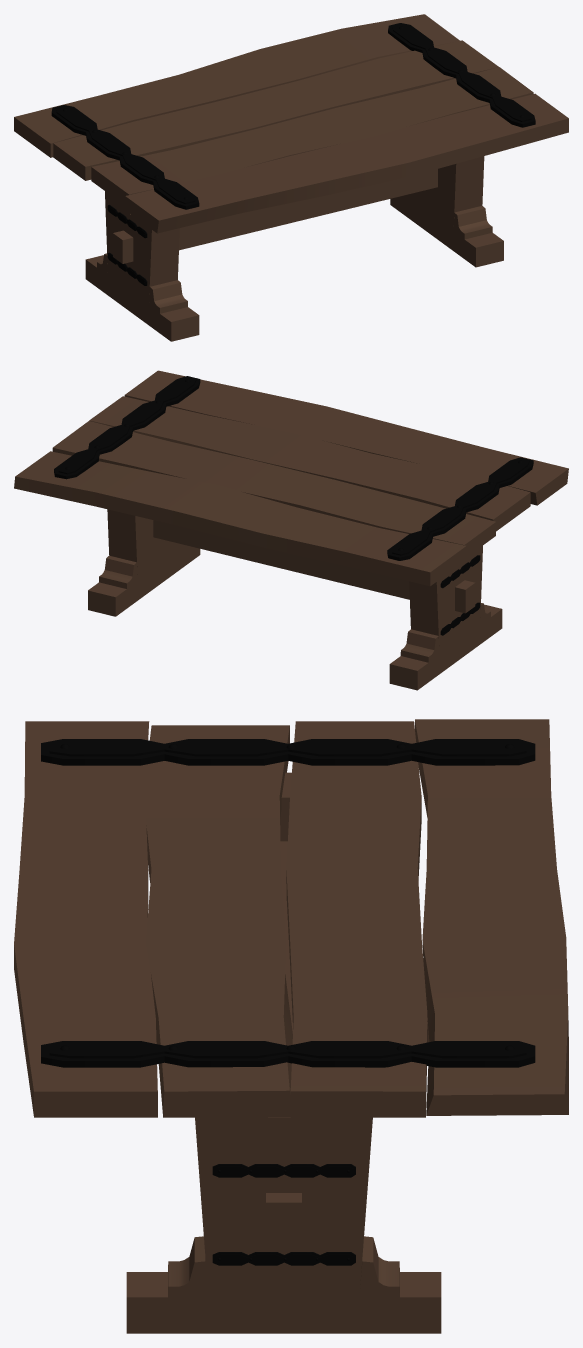
Rendered from Table.fbx.
3 renders of one model, top to bottom at view 1: azimuth 30°, elevation 25°; view 2: azimuth 150°, elevation 25°; view 3: azimuth 270°, elevation 25°, orthographic. The views are drawn at different scales.
Parts seen in each view (by area): view 1: DiningTable; view 2: DiningTable; view 3: DiningTable.
Boxes of the visible parts, x1=… form: DiningTable: x1=14, y1=14, x2=568, y2=341; DiningTable: x1=14, y1=370, x2=568, y2=690; DiningTable: x1=14, y1=719, x2=568, y2=1333.
Size of the model in its own units: 2.25 by 0.8149 by 1.42.
